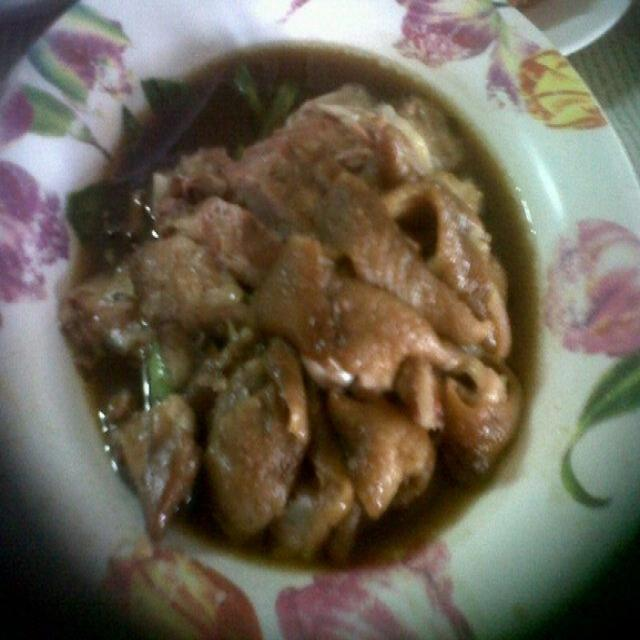猪肉菜式: (3, 4, 638, 626)
